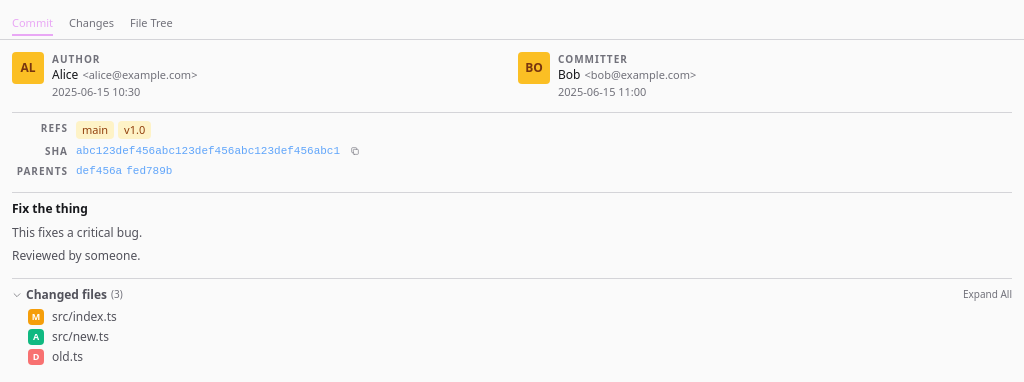
DetailsPane › changed files toggle › collapses the file list when "Changed files" is clicked
The image size is (1024, 382).
Expected: the text "src/index.ts" is shown, [52, 309, 117, 325]
// Click to collapse
Click the button "Changed files (3)" at {"x": 67, "y": 295}, box [12, 287, 123, 303]
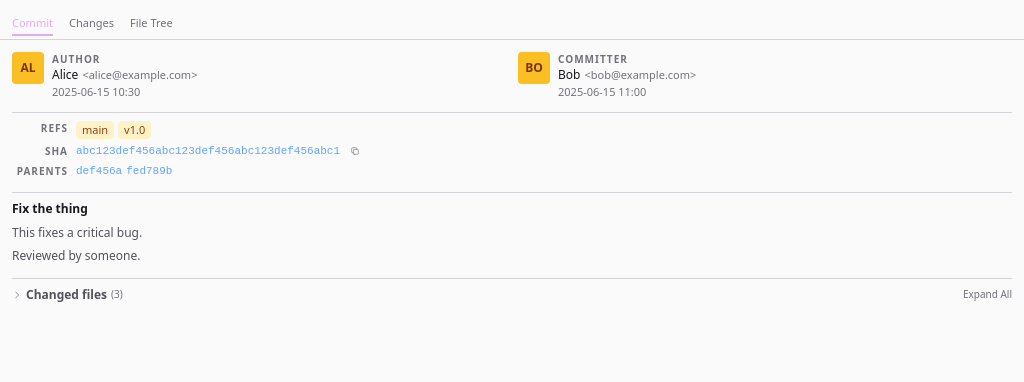
Expected: the button "src/index.ts" is gone
